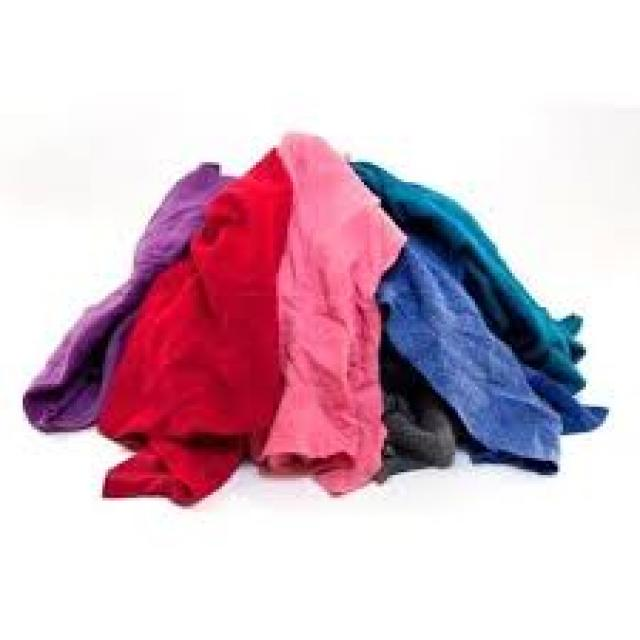Clothes -Biodegradable-: (11, 136, 606, 497)
